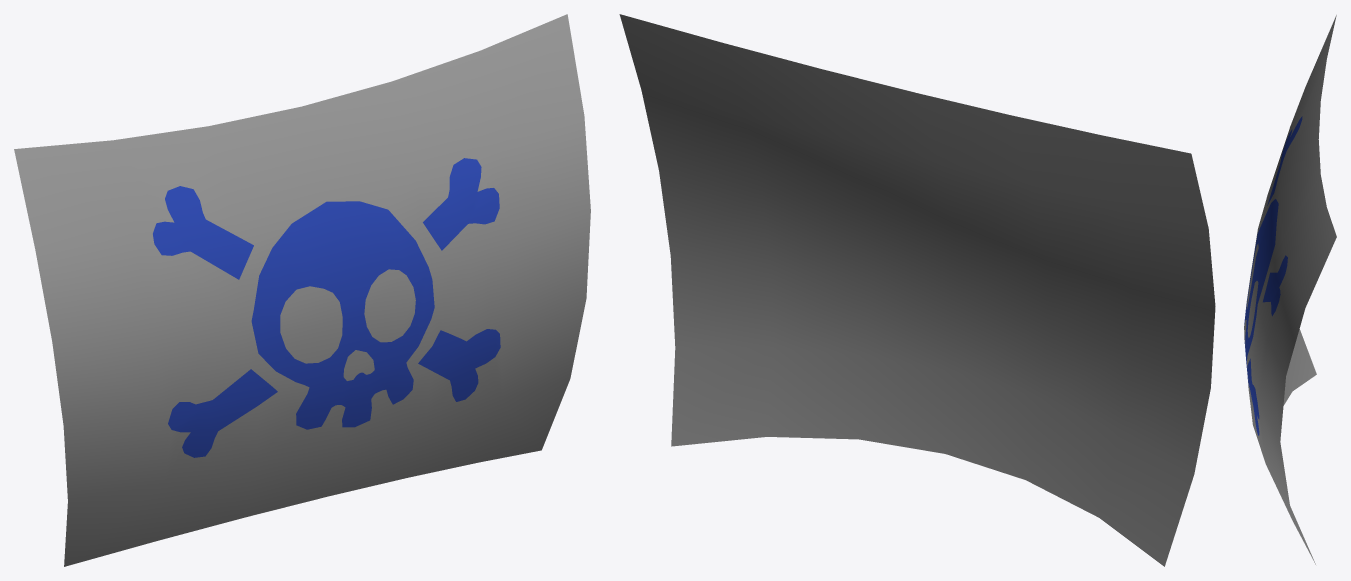
Rendered from Sail_Custom_01.fbx.
3 views of the same model, side by side, from view 1: azimuth 30°, elevation 25°; view 2: azimuth 150°, elevation 25°; view 3: azimuth 270°, elevation 25° (orthographic). The views are drawn at different scales.
Visible parts, largest first — view 1: Sail_Custom_01; view 2: Sail_Custom_01; view 3: Sail_Custom_01.
Boxes of the visible parts, x1=… form: Sail_Custom_01: x1=14, y1=14, x2=590, y2=566; Sail_Custom_01: x1=619, y1=14, x2=1215, y2=566; Sail_Custom_01: x1=1244, y1=15, x2=1336, y2=564.
Size of the model in its own units: 411 by 297 by 72.36.
